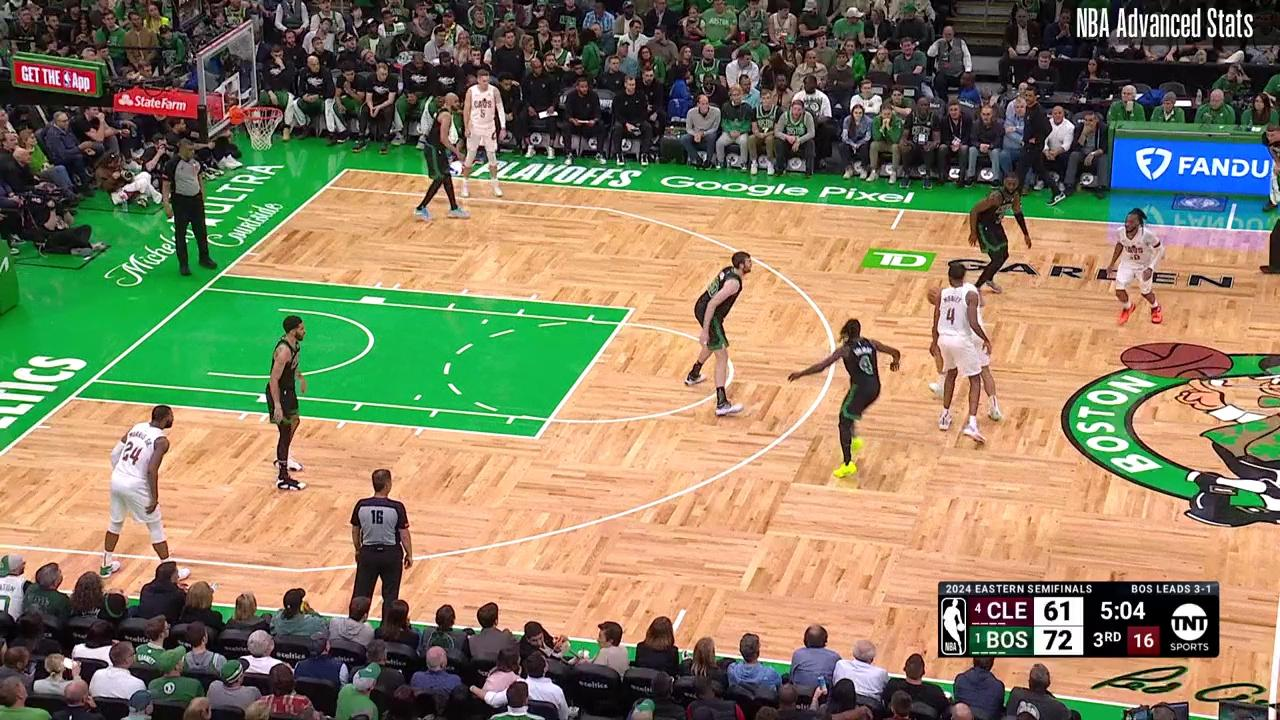3_dx: (321, 182, 332, 192)
b_dx: (341, 165, 352, 175)
free_adx: (625, 304, 637, 315)
free_asx: (529, 431, 543, 444)
free_bdx: (215, 269, 228, 280)
free_bsx: (66, 391, 78, 403)
mid_dx: (887, 223, 898, 234)
mid_sx: (678, 604, 688, 616)
referee: (344, 464, 415, 621), (163, 138, 221, 278)
team: (794, 317, 905, 480), (678, 247, 751, 420), (264, 313, 313, 492), (964, 175, 1032, 297), (413, 90, 468, 220)
team1: (99, 401, 194, 583), (929, 265, 993, 444), (929, 261, 999, 419), (1108, 205, 1169, 328), (462, 68, 509, 197)
timer: (1096, 591, 1156, 624)
